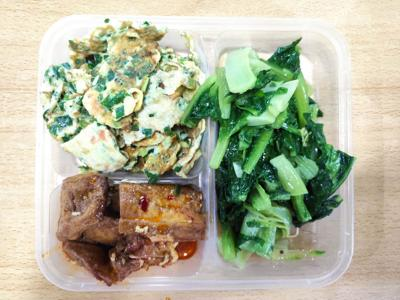cjd: (53, 28, 207, 177)
ymc: (216, 41, 356, 267)
